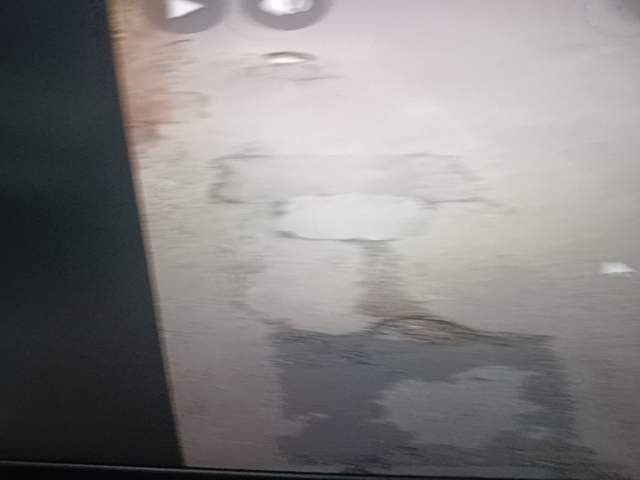pothole: (528, 403, 640, 480)
